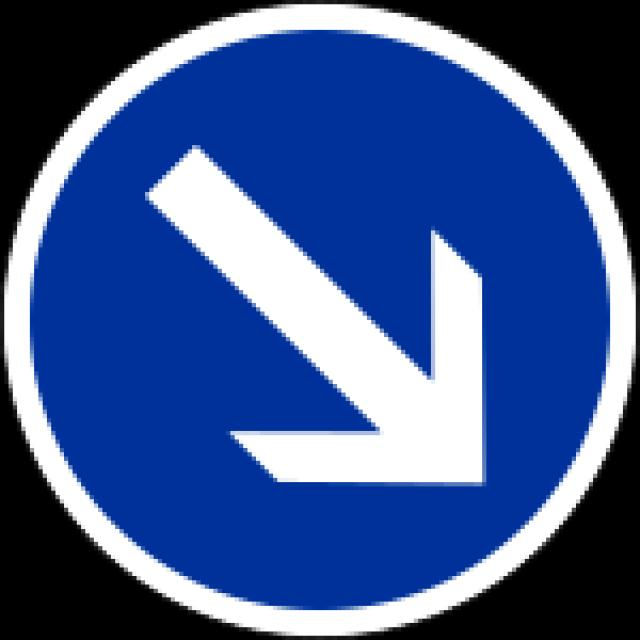direction_obligation: (4, 4, 636, 640)
